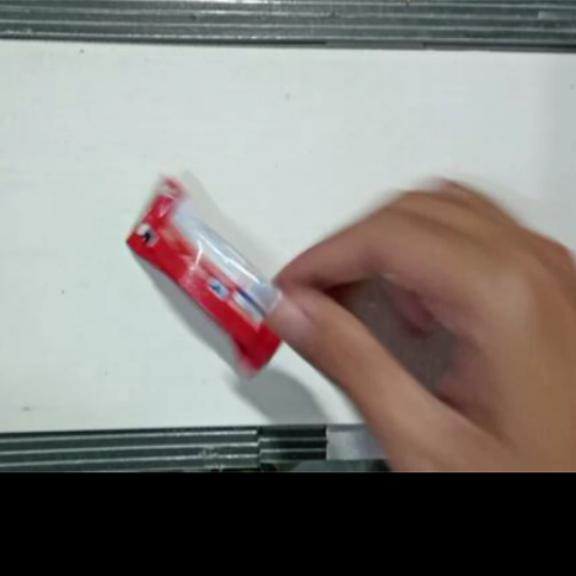Plastik: (126, 179, 290, 378)
